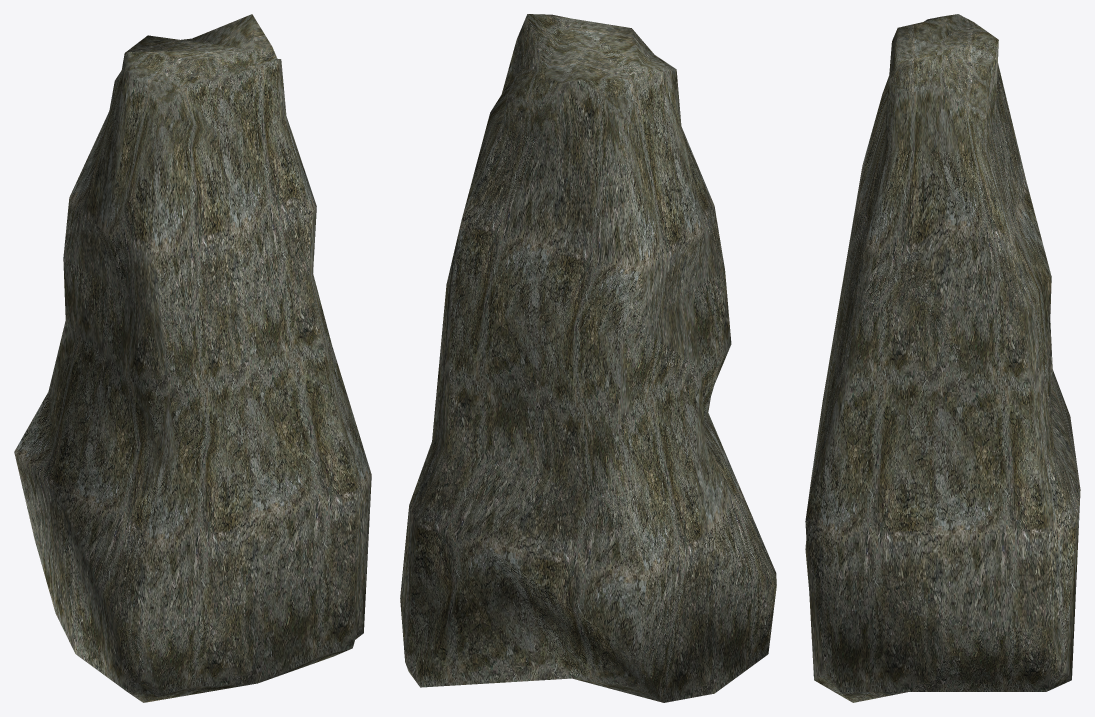
File: rock_dant_l0.fbx
3 renders of one model, left to right at view 1: azimuth 30°, elevation 25°; view 2: azimuth 150°, elevation 25°; view 3: azimuth 270°, elevation 25°, orthographic. The views are drawn at different scales.
Visible parts, largest first — view 1: mesh_node; view 2: mesh_node; view 3: mesh_node.
Part boxes in pixels (x1,y1,x2,y2): mesh_node: (14, 14, 371, 702); mesh_node: (400, 14, 776, 702); mesh_node: (805, 14, 1080, 702).
Size of the model in its own units: 2.04 by 4.77 by 1.89.
1 material, 1 textured.
